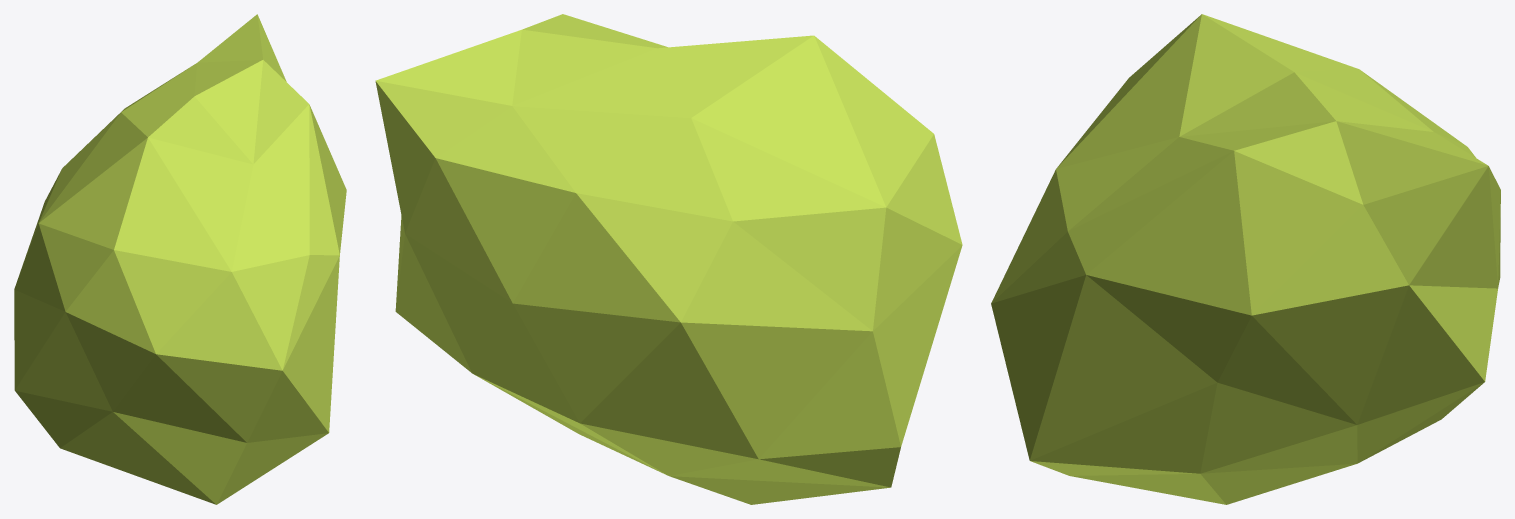
File: Rock10.obj
The picture shows the model from 3 angles, left to right: view 1: azimuth 30°, elevation 25°; view 2: azimuth 150°, elevation 25°; view 3: azimuth 270°, elevation 25°; orthographic projection. The views are drawn at different scales.
Parts seen in each view (by area): view 1: GeoSphere001; view 2: GeoSphere001; view 3: GeoSphere001.
Part boxes in pixels (x1,y1,x2,y2): GeoSphere001: (14, 14, 346, 504); GeoSphere001: (375, 14, 962, 504); GeoSphere001: (991, 14, 1500, 504).
Size of the model in its own units: 1.96 by 2.03 by 2.
